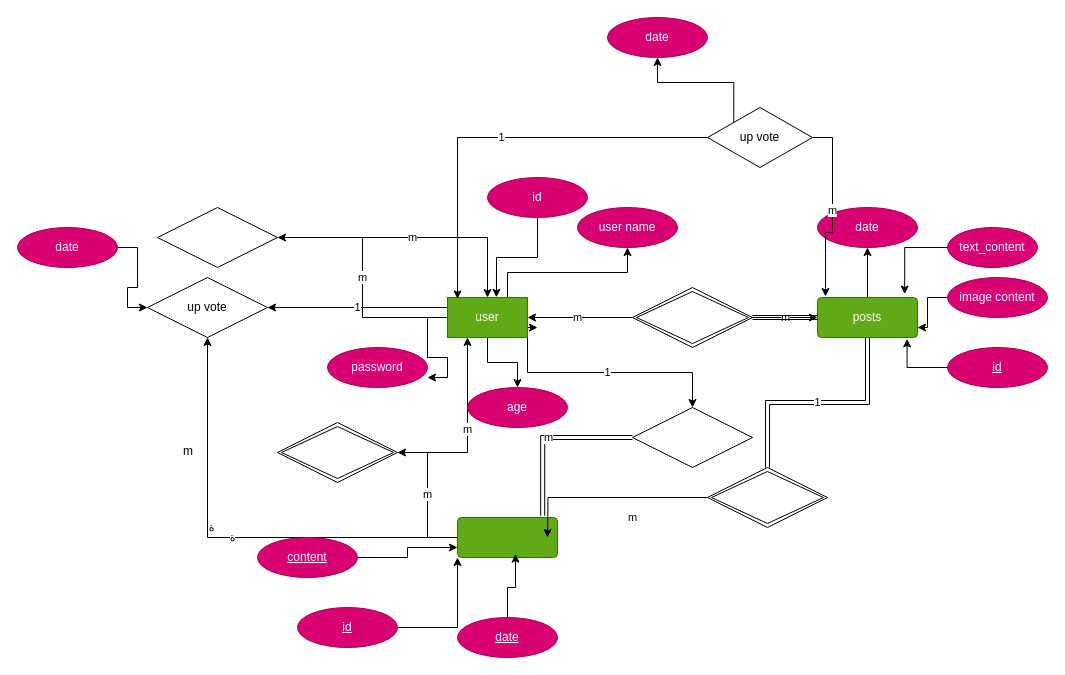
The diagram is 1065 pixels wide and 675 high, and some of its shapes have lost their labels. Each missing label, with the centre of its shape:
"commented" belongs at (692,437).
"comments" belongs at (507,537).
"following" belongs at (217,237).
"has comments" belongs at (767,497).
"posted" belongs at (692,317).
"reply" belongs at (337,452).
